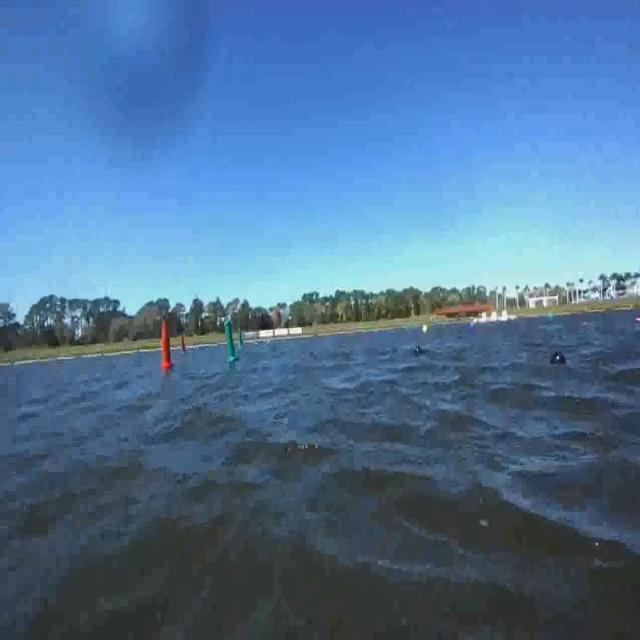blue-buoy: (548, 346, 570, 369)
green-buoy: (546, 312, 553, 324)
green-column-buoy: (223, 318, 239, 363)
red-column-buoy: (160, 320, 174, 370), (182, 336, 190, 354)
yellow-buoy: (422, 324, 430, 338)
